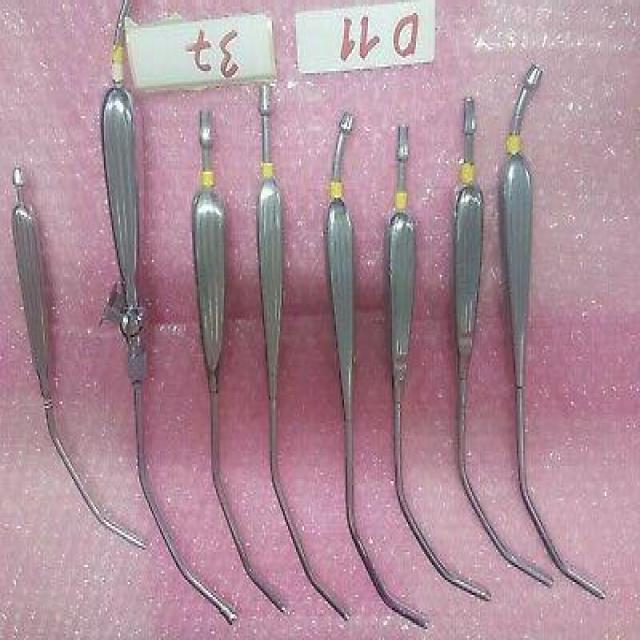Yankauer: (98, 0, 241, 630), (496, 63, 608, 602), (322, 105, 431, 636), (251, 80, 352, 630), (8, 163, 150, 554), (448, 92, 557, 591), (382, 120, 493, 608), (188, 105, 292, 623)
